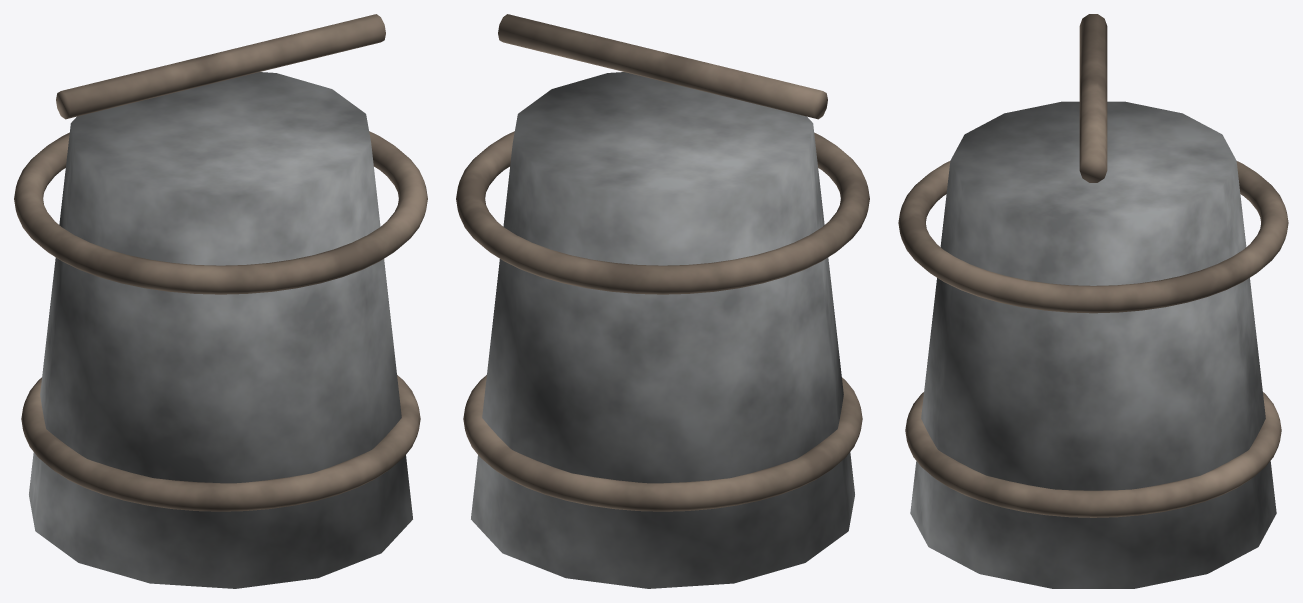
File: prop_ember.obj
The picture shows the model from 3 angles, left to right: view 1: azimuth 30°, elevation 25°; view 2: azimuth 150°, elevation 25°; view 3: azimuth 270°, elevation 25°; orthographic projection. The views are drawn at different scales.
Parts seen in each view (by area): view 1: prop_ember; view 2: prop_ember; view 3: prop_ember.
Part boxes in pixels (left/top/right/bottom): prop_ember: left=14, top=14, right=427, bottom=588; prop_ember: left=456, top=14, right=869, bottom=588; prop_ember: left=898, top=14, right=1288, bottom=588.
Size of the model in its own units: 0.3408 by 0.4114 by 0.3408.
1 material, 1 textured.
